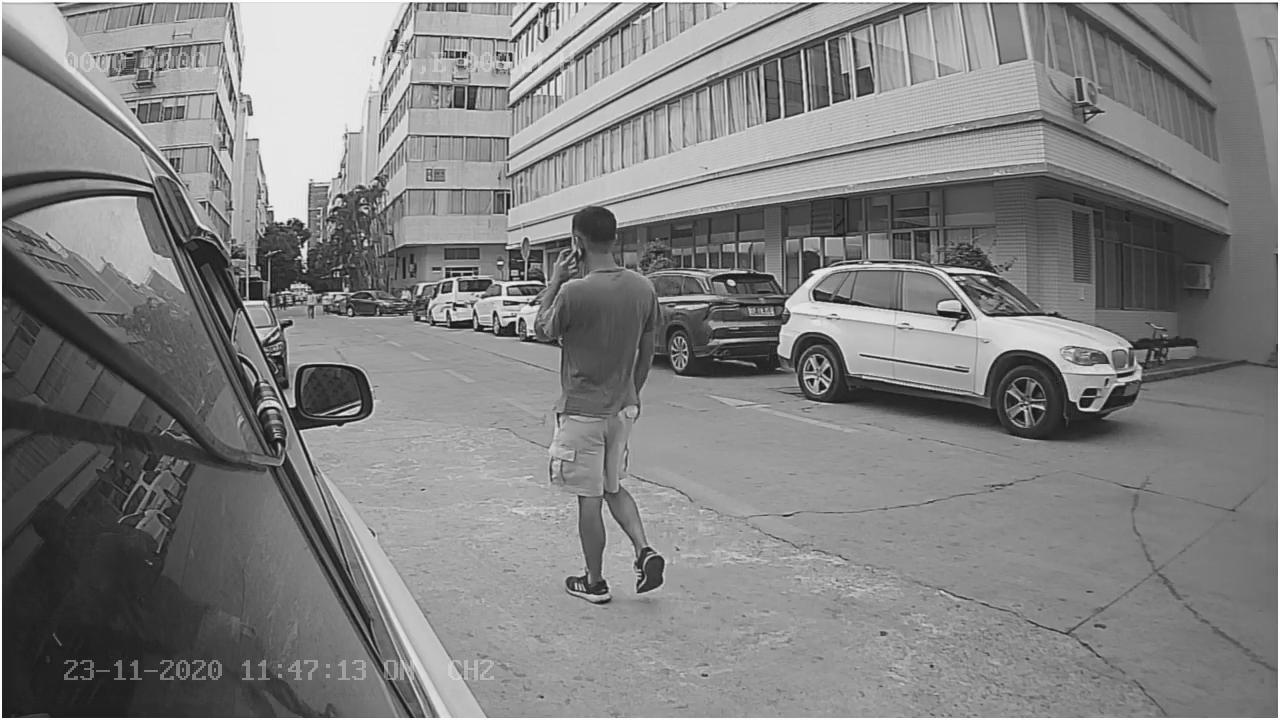person: (537, 204, 675, 604)
